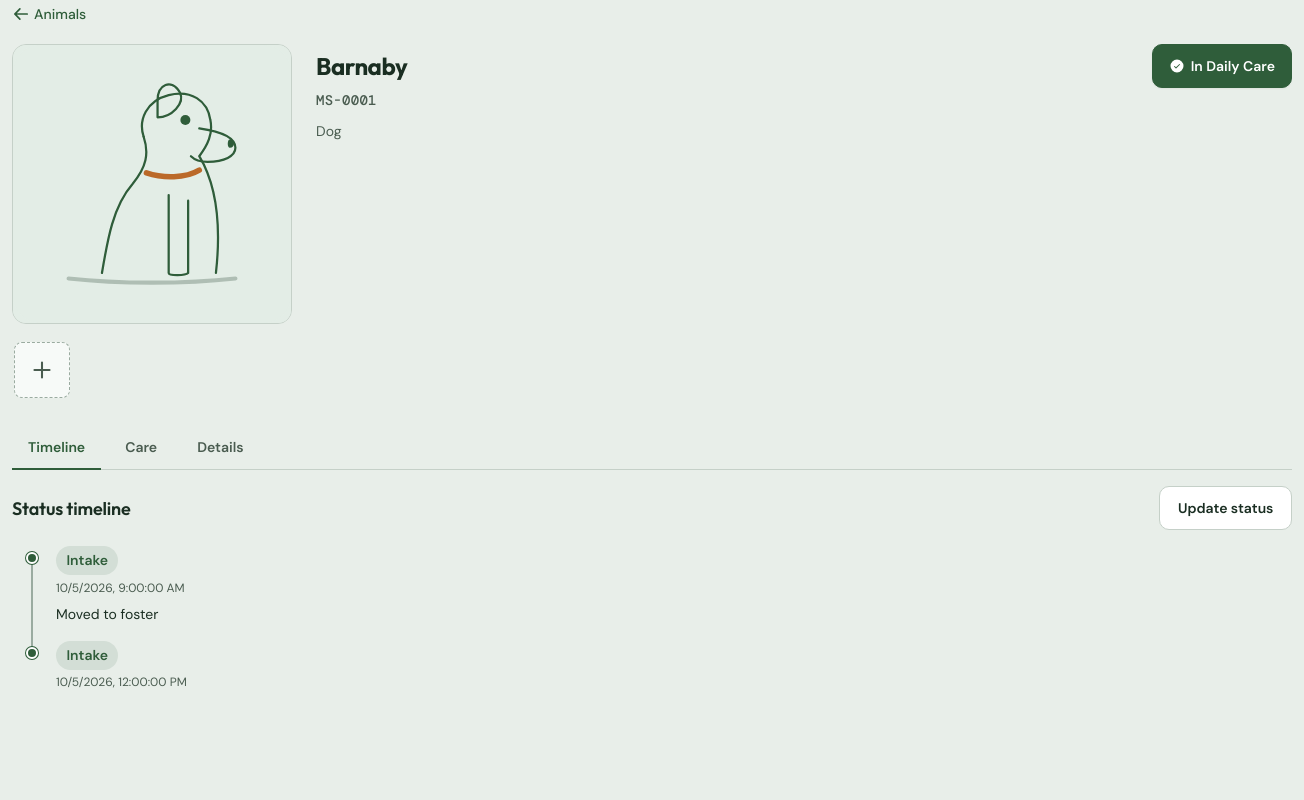
Care and Timeline tabs on AnimalDetailScreen › renders empty state in Care tab when no care notes exist
Click the tab "Care" at (141, 448), box [109, 426, 173, 470]
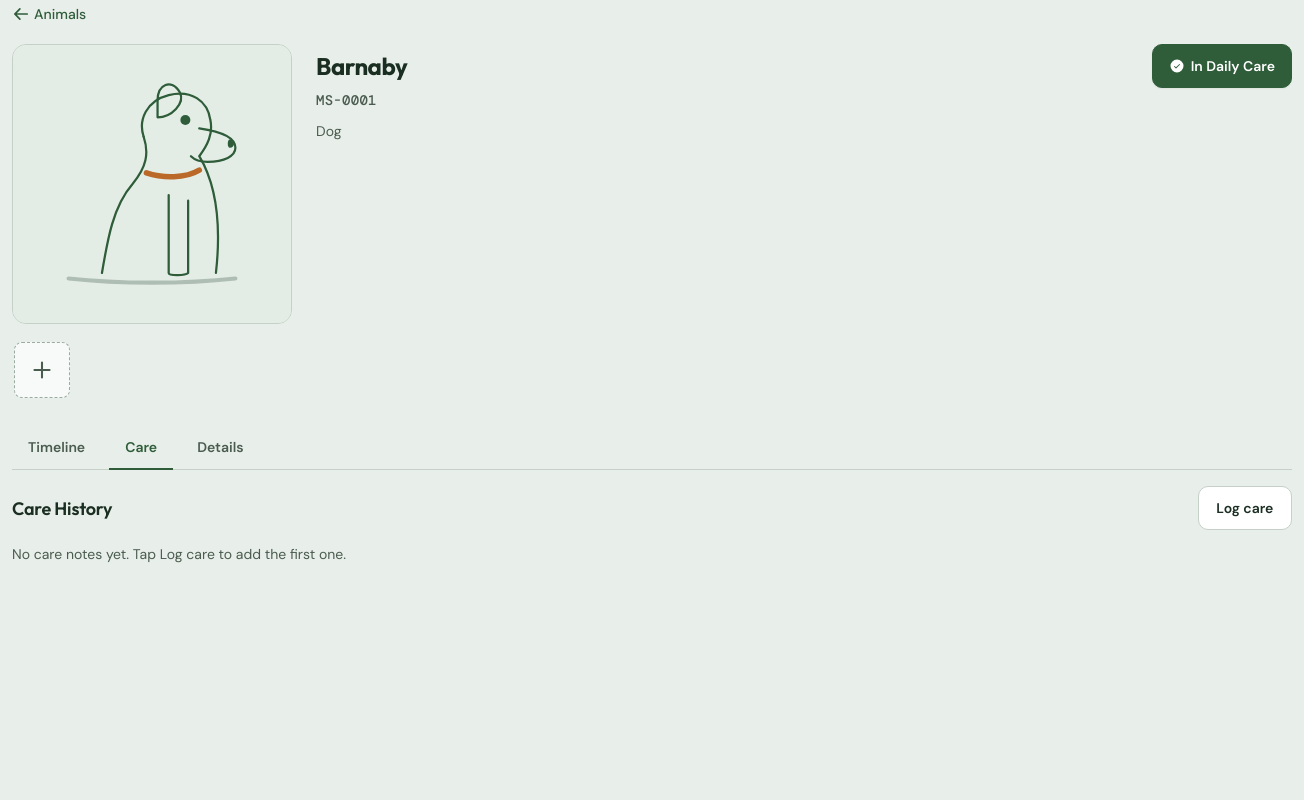
Expected: the heading "Care History" is shown, [12, 495, 112, 522]
Expected: the button "Log care" is shown, [1198, 486, 1292, 530]
Expected: the text "No care notes yet. Tap Log care to add the first one." is shown, [12, 545, 346, 563]
